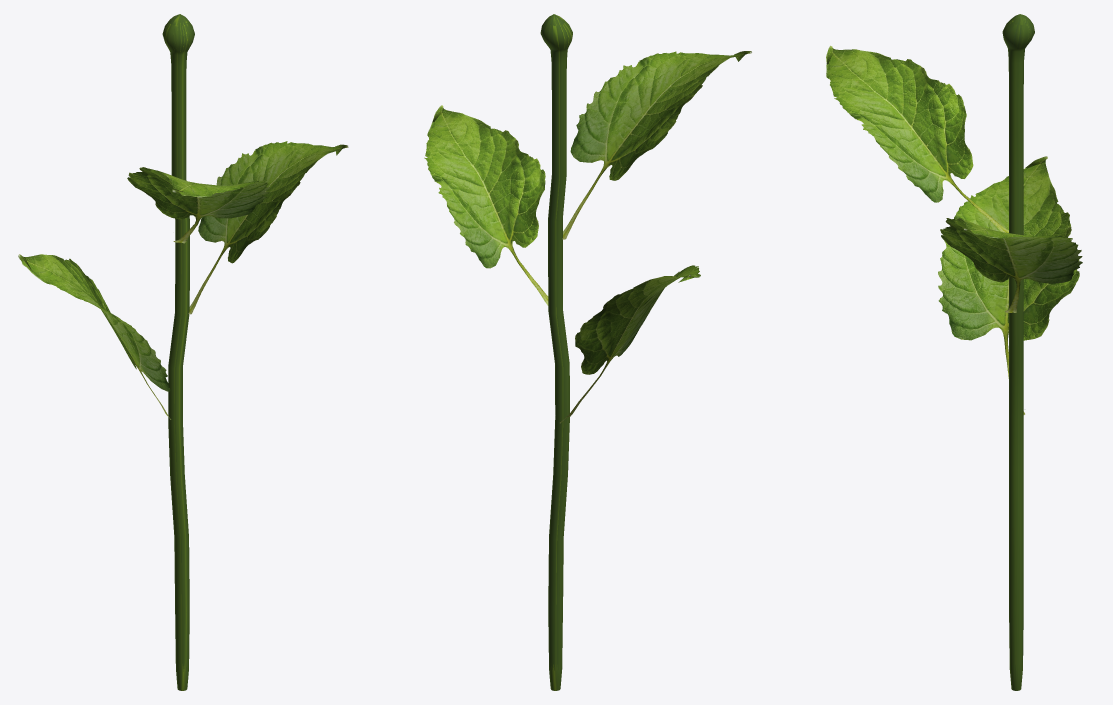
File: Sunflower_young.fbx
3 views of the same model, side by side, from view 1: azimuth 30°, elevation 25°; view 2: azimuth 150°, elevation 25°; view 3: azimuth 270°, elevation 25° (orthographic).
Parts seen in each view (by area): view 1: pasted__pasted__pCube2 (×2), pasted__pCylinder2, pasted__pCube2; view 2: pasted__pasted__pCube2 (×2), pasted__pCylinder2, pasted__pCube2; view 3: pasted__pasted__pCube2 (×2), pasted__pCube2, pasted__pCylinder2.
Part boxes in pixels (<box>): pasted__pasted__pCube2 (×2): <box>127,141,348,314</box>; pasted__pCylinder2: <box>162,14,194,690</box>; pasted__pCube2: <box>18,254,170,419</box>; pasted__pasted__pCube2 (×2): <box>424,51,751,305</box>; pasted__pCylinder2: <box>540,14,572,690</box>; pasted__pCube2: <box>560,265,700,423</box>; pasted__pasted__pCube2 (×2): <box>826,45,1082,312</box>; pasted__pCube2: <box>938,156,1079,414</box>; pasted__pCylinder2: <box>1002,14,1034,690</box>.
Bounding box in the file's own units: 21.61 × 45.59 × 19.05.
